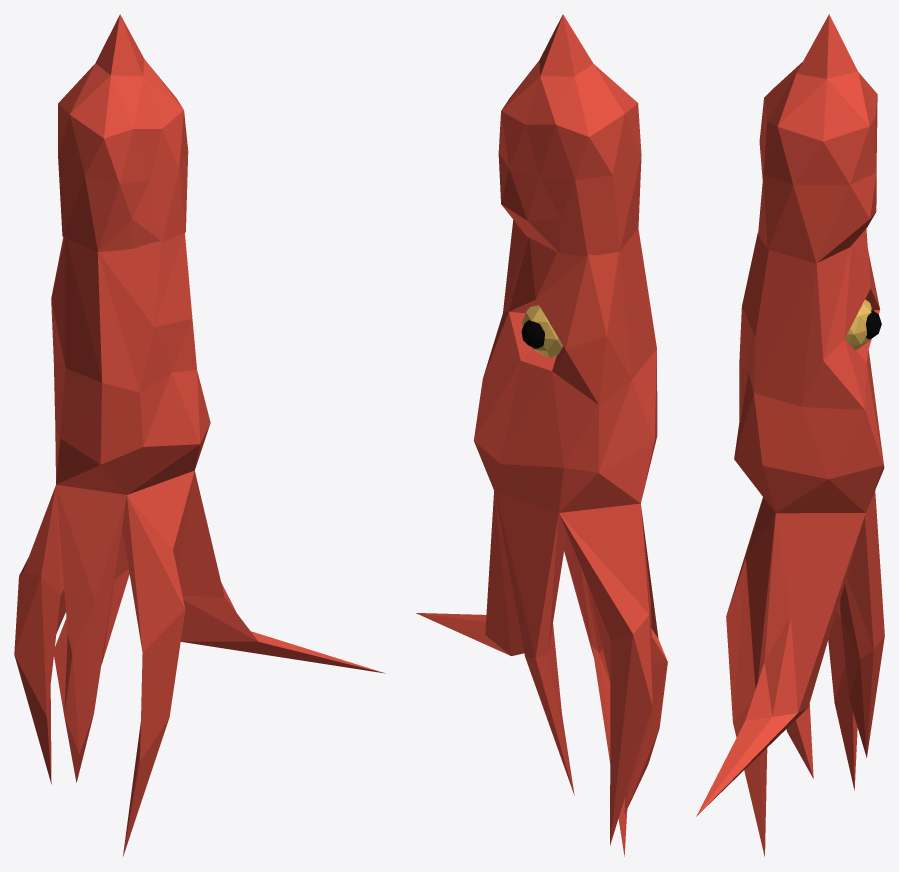
The model's file is calamar.glb.
The picture shows the model from 3 angles, left to right: view 1: azimuth 30°, elevation 25°; view 2: azimuth 150°, elevation 25°; view 3: azimuth 270°, elevation 25°; orthographic projection. The views are drawn at different scales.
Parts seen in each view (by area): view 1: Icosphere.003; view 2: Icosphere.003; view 3: Icosphere.003.
Part boxes in pixels (left/top/right/bottom): Icosphere.003: left=14, top=14, right=385, bottom=856; Icosphere.003: left=416, top=14, right=667, bottom=856; Icosphere.003: left=696, top=14, right=884, bottom=856.
Size of the model in its own units: 5.62 by 14.65 by 2.92.
